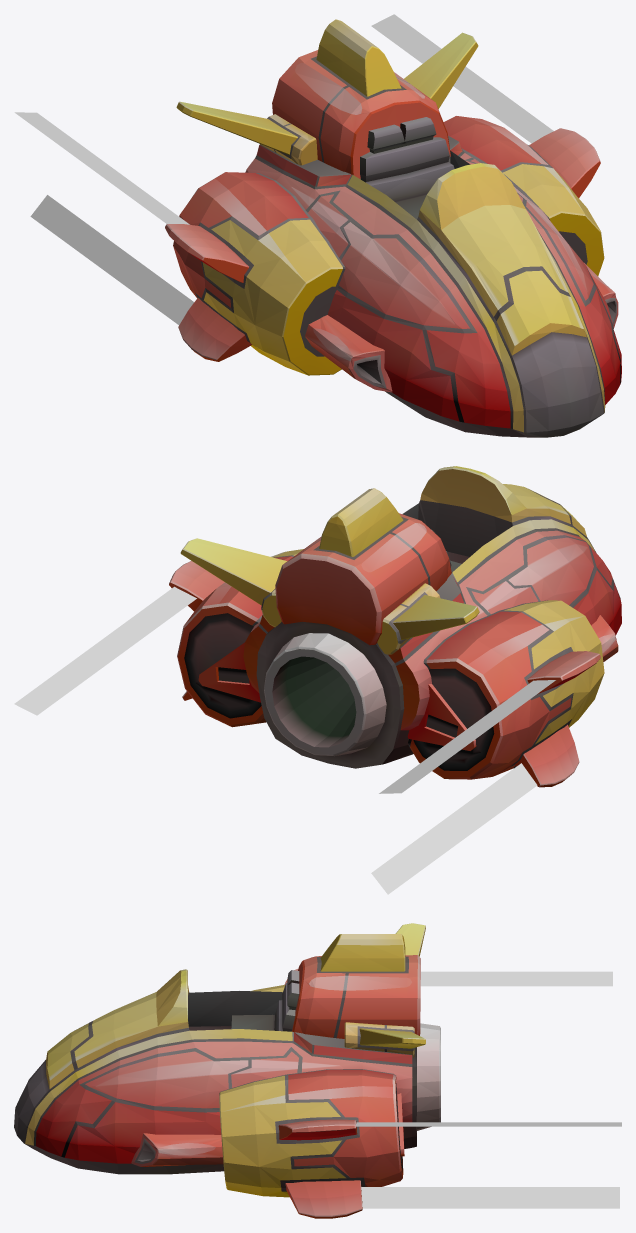
Rendered from IronBenAirplane.glb.
3 renders of one model, top to bottom at view 1: azimuth 30°, elevation 25°; view 2: azimuth 150°, elevation 25°; view 3: azimuth 270°, elevation 25°, orthographic. The views are drawn at different scales.
Visible parts, largest first — view 1: airplane, Trail4, Trail1, Trail2; view 2: airplane, Trail4, Trail1, Trail2; view 3: airplane, Trail3, Trail2, Trail1.
Part boxes in pixels (x1,y1,x2,y2): airplane: [165, 19, 621, 437]; Trail4: [30, 195, 194, 324]; Trail1: [371, 14, 553, 143]; Trail2: [14, 112, 189, 224]; airplane: [169, 466, 621, 787]; Trail4: [371, 763, 537, 894]; Trail1: [14, 586, 196, 715]; Trail2: [379, 680, 555, 793]; airplane: [14, 923, 440, 1218]; Trail3: [361, 1187, 619, 1208]; Trail2: [420, 971, 612, 986]; Trail1: [356, 1122, 621, 1126].
Bounding box in the file's own units: 0.7329 × 0.4612 × 1.14.
